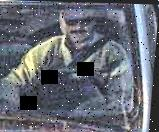seatbelt: (73, 24, 125, 62)
